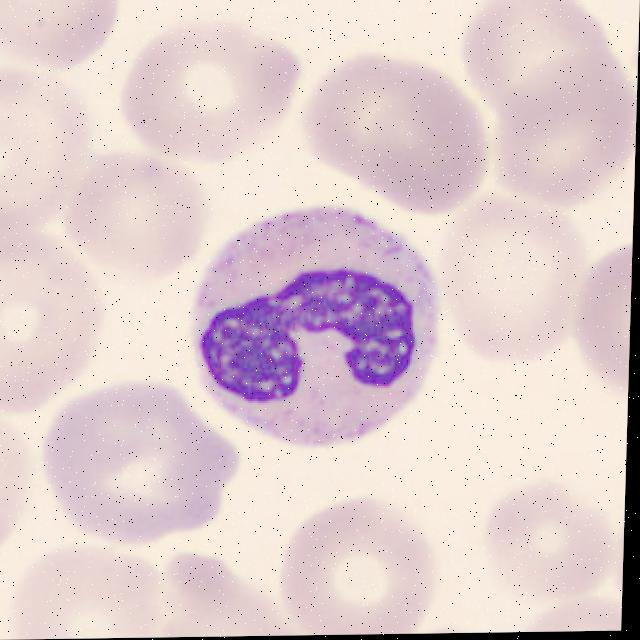neutrophil: (188, 189, 443, 453)
rbc: (299, 59, 493, 205), (53, 397, 231, 537), (127, 19, 297, 165), (478, 67, 634, 210), (435, 216, 582, 358), (70, 134, 206, 284), (290, 502, 435, 635), (0, 224, 104, 404), (464, 1, 609, 111), (13, 554, 180, 640), (0, 85, 100, 224), (161, 555, 328, 637), (490, 490, 608, 605), (0, 0, 120, 78), (574, 249, 632, 400), (0, 414, 29, 548), (598, 500, 625, 611), (518, 607, 622, 632), (624, 0, 640, 152), (402, 617, 496, 634), (103, 559, 104, 565)
